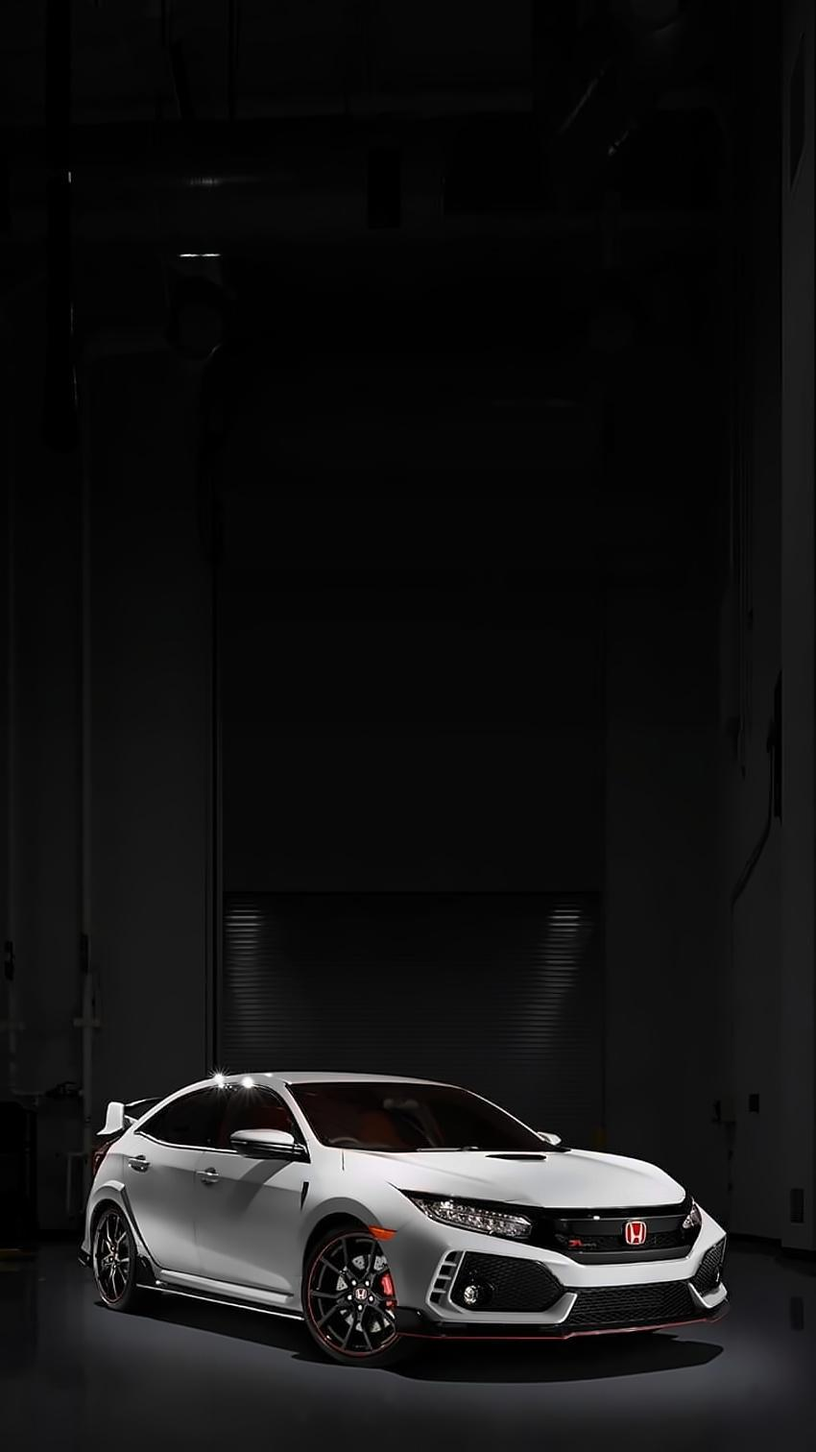Car hood: (329, 1144, 690, 1210)
Driver-s door - -F-R-: (188, 1070, 310, 1327)
Fender - -F-R-: (295, 1147, 415, 1313)
Fender - -R-R-: (78, 1127, 136, 1263)
Front bumper: (379, 1212, 733, 1340)
Headlight - -L-: (679, 1193, 704, 1234)
Headlight - -R-: (397, 1187, 541, 1244)
Passenger-s door - -R-R-: (115, 1069, 225, 1302)
Side bumper - -R-: (127, 1256, 313, 1332)
Side mirror - -R-: (232, 1127, 310, 1165)
